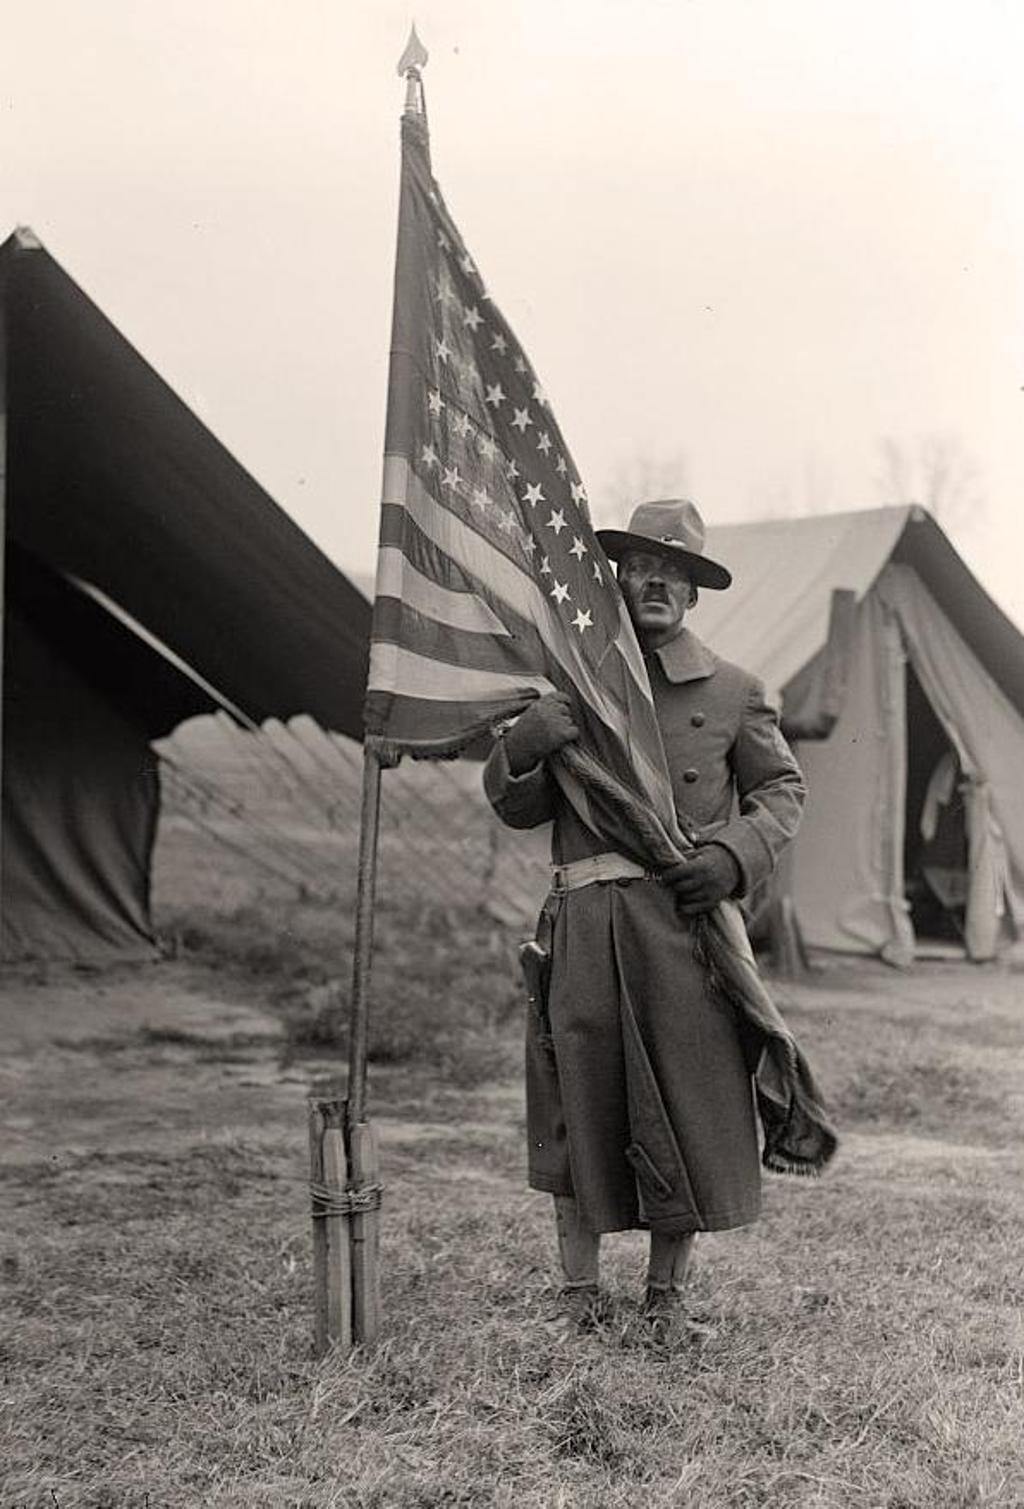face: (616, 539, 698, 630)
